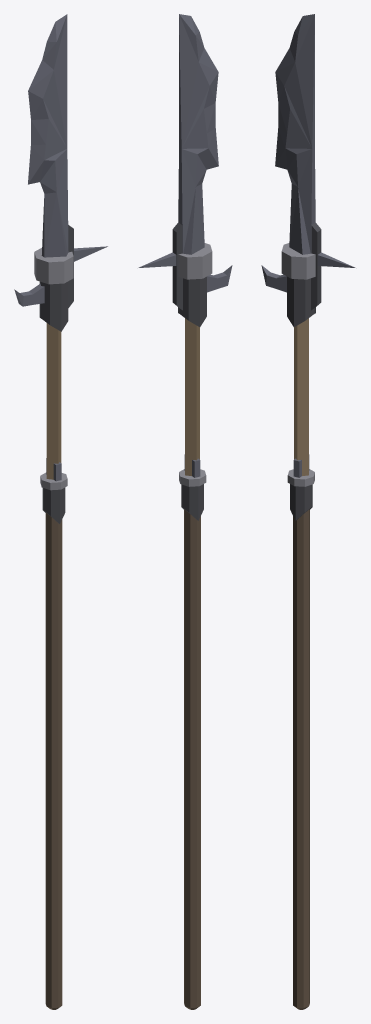
The model's file is Lanca_A19.fbx.
3 renders of one model, left to right at view 1: azimuth 30°, elevation 25°; view 2: azimuth 210°, elevation 25°; view 3: azimuth 330°, elevation 25°, orthographic.
Visible parts, largest first — view 1: polearm_19; view 2: polearm_19; view 3: polearm_19.
Boxes of the visible parts, box(x1,y1,x2,y2) form: polearm_19: box(14, 14, 107, 1009); polearm_19: box(138, 14, 232, 1009); polearm_19: box(261, 14, 355, 1009).
Size of the model in its own units: 20.54 by 206 by 7.67.
